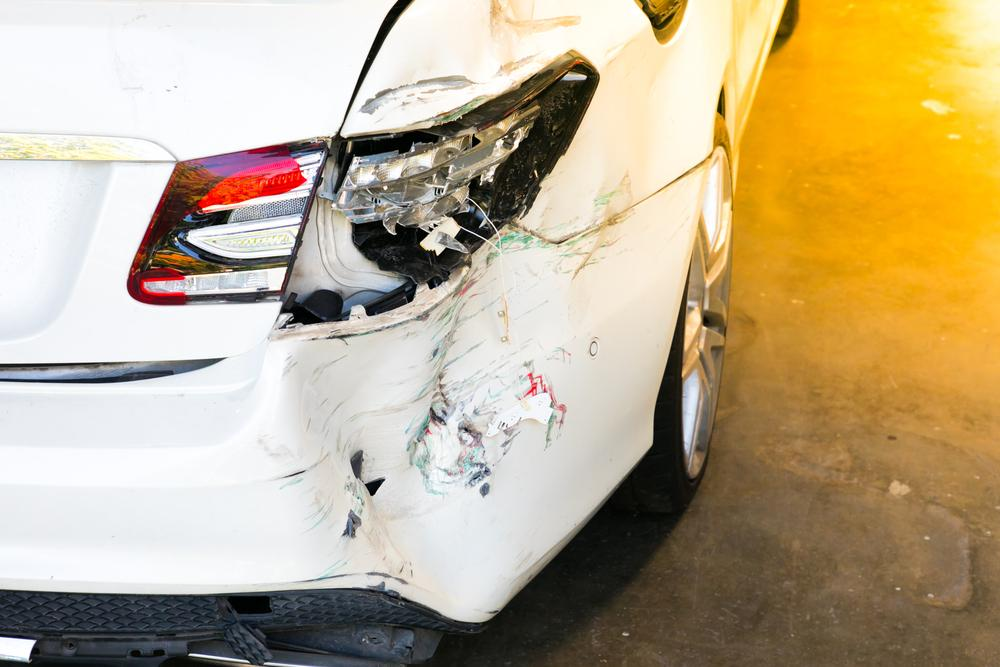dent: (286, 230, 590, 619), (516, 30, 687, 243), (367, 0, 572, 125)
lamp broken: (127, 47, 602, 324)
